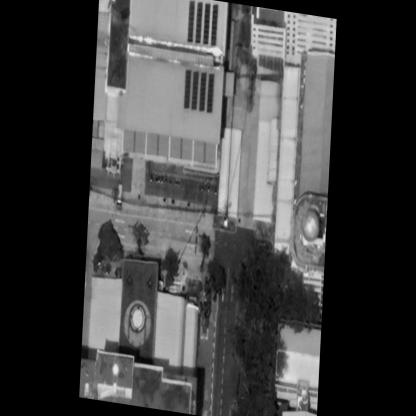solar-pv-panel: (188, 0, 218, 45), (184, 70, 214, 112)
